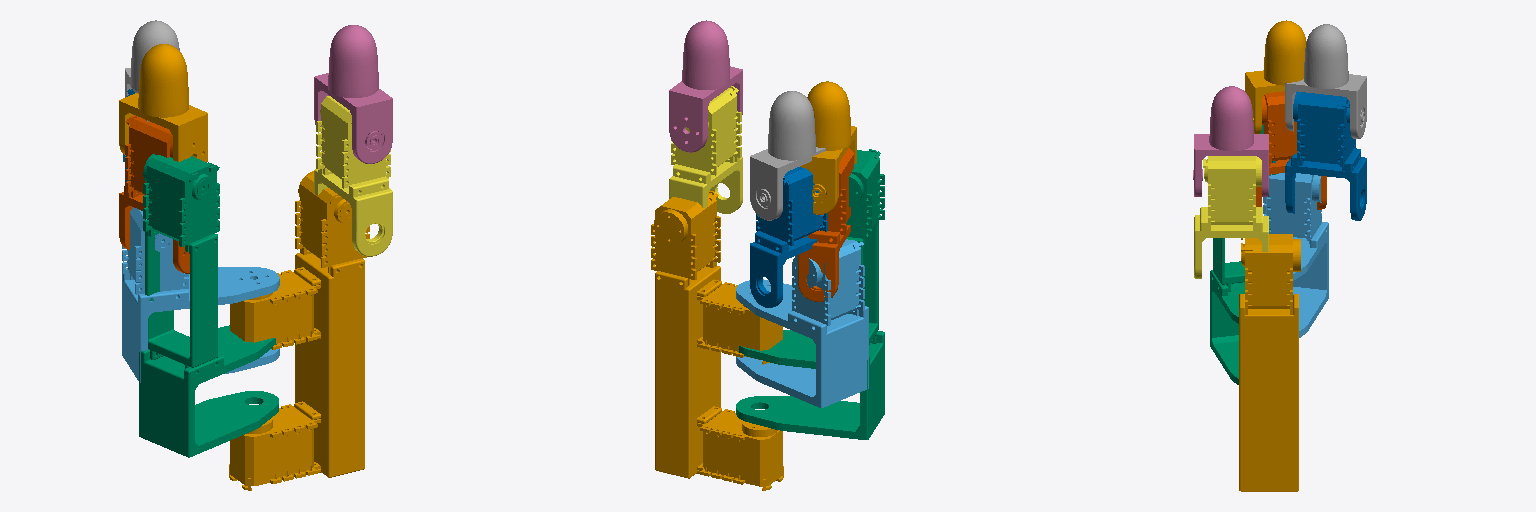
URDF robot description (p_hand):
<?xml version="1.0"?>
<robot name="p_hand">
  
  <!-- LINKS -->
  <link name="base_link">
    <visual>
      <geometry>
        <mesh filename="package://p_hand_description/meshes/base_link.STL"/>
      </geometry>
      <origin rpy="0 0 0" xyz="-0.0115 0 -0.127"/>
    </visual>
    <collision>
      <geometry>
        <mesh filename="package://p_hand_description/meshes/base_link.STL"/>
      </geometry>
      <origin rpy="0 0 0" xyz="-0.0115 0 -0.127"/>
    </collision>
    <inertial>
      <origin xyz="0.050416 0.000105 0.080742" rpy="0 0 0"/>
      <mass value="0.1"/>
      <!-- TODO -->
      <inertia ixx="0.4" ixy="0.0" ixz="0.0" iyy="0.4" iyz="0.0" izz="0.2"/>
    </inertial>
  </link>
  
  <link name="swivel1">
    <visual>
      <geometry>
        <mesh filename="package://p_hand_description/meshes/swivel1.STL"/>
      </geometry>
      <origin rpy="0 0 0" xyz="0 0 -0.045"/>
    </visual>
    <collision>
      <geometry>
        <mesh filename="package://p_hand_description/meshes/swivel1.STL"/>
      </geometry>
      <origin rpy="0 0 0" xyz="0 0 -0.045"/>
    </collision>
  </link>
  
  <link name="swivel2">
    <visual>
      <geometry>
        <mesh filename="package://p_hand_description/meshes/swivel2.STL"/>
      </geometry>
      <origin rpy="0 0 0" xyz="0 0 0"/>
    </visual>
    <collision>
      <geometry>
        <mesh filename="package://p_hand_description/meshes/swivel2.STL"/>
      </geometry>
      <origin rpy="0 0 0" xyz="0 0 0"/>
    </collision>
  </link>
  
  <link name="lower0">
    <visual>
      <geometry>
        <mesh filename="package://p_hand_description/meshes/lower.STL"/>
      </geometry>
      <origin rpy="0 0 0" xyz="0 0 0"/>
    </visual>
    <collision>
      <geometry>
        <mesh filename="package://p_hand_description/meshes/lower.STL"/>
      </geometry>
      <origin rpy="0 0 0" xyz="0 0 0"/>
    </collision>
  </link>
  
  <link name="lower1">
    <visual>
      <geometry>
        <mesh filename="package://p_hand_description/meshes/lower.STL"/>
      </geometry>
      <origin rpy="0 0 0" xyz="0 0 0"/>
    </visual>
    <collision>
      <geometry>
        <mesh filename="package://p_hand_description/meshes/lower.STL"/>
      </geometry>
      <origin rpy="0 0 0" xyz="0 0 0"/>
    </collision>
  </link>
  
  <link name="lower2">
    <visual>
      <geometry>
        <mesh filename="package://p_hand_description/meshes/lower.STL"/>
      </geometry>
      <origin rpy="0 0 0" xyz="0 0 0"/>
    </visual>
    <collision>
      <geometry>
        <mesh filename="package://p_hand_description/meshes/lower.STL"/>
      </geometry>
      <origin rpy="0 0 0" xyz="0 0 0"/>
    </collision>
  </link>
  
  <link name="upper0">
    <visual>
      <geometry>
        <mesh filename="package://p_hand_description/meshes/upper.STL"/>
      </geometry>
      <origin rpy="0 0 0" xyz="0 0 0"/>
    </visual>
    <collision>
      <geometry>
        <mesh filename="package://p_hand_description/meshes/upper.STL"/>
      </geometry>
      <origin rpy="0 0 0" xyz="0 0 0"/>
    </collision>
  </link>
  
  <link name="upper1">
    <visual>
      <geometry>
        <mesh filename="package://p_hand_description/meshes/upper.STL"/>
      </geometry>
      <origin rpy="0 0 0" xyz="0 0 0"/>
    </visual>
    <collision>
      <geometry>
        <mesh filename="package://p_hand_description/meshes/upper.STL"/>
      </geometry>
      <origin rpy="0 0 0" xyz="0 0 0"/>
    </collision>
  </link>
  
  <link name="upper2">
    <visual>
      <geometry>
        <mesh filename="package://p_hand_description/meshes/upper.STL"/>
      </geometry>
      <origin rpy="0 0 0" xyz="0 0 0"/>
    </visual>
    <collision>
      <geometry>
        <mesh filename="package://p_hand_description/meshes/upper.STL"/>
      </geometry>
      <origin rpy="0 0 0" xyz="0 0 0"/>
    </collision>
  </link>

<!-- JOINTS -->
<!-- Swivels -->
  <joint name="base_link_swivel1" type="revolute">
    <parent link="base_link"/>
    <child link="swivel1"/>
    <!-- lower=30 upper=300  -->
    <limit effort="1000.0" lower="0.523599" upper="5.23599" velocity="0.5"/>
    <origin xyz="0 0 0" rpy="0 0 0" />
    <axis xyz="0 0 1"/>
  </joint>
  
  <joint name="base_link_swivel2" type="revolute">
    <parent link="base_link"/>
    <child link="swivel2"/>
    <!-- lower=60 upper=330  -->
    <limit effort="1000.0" lower="1.0472" upper="5.75959" velocity="0.5"/>
    <origin xyz="0 0 -0.08" rpy="0 0 0" />
    <axis xyz="0 0 1"/>
  </joint>

<!-- Lowers -->
  <joint name="base_link_lower0" type="revolute">
    <parent link="base_link"/>
    <child link="lower0"/>
    <!-- lower=-90 upper=50  -->
    <limit effort="1000.0" lower="-1.5708" upper="0.872665" velocity="0.5"/>
    <origin xyz="0.053 0 0.042" rpy="1.5708  0 0" />
    <axis xyz="0 0 1" />
  </joint>

  <joint name="swivel1_lower1" type="revolute">
    <parent link="swivel1"/>
    <child link="lower1"/>
    <!-- lower=-90 upper=50  -->
    <limit effort="1000.0" lower="-1.5708" upper="0.872665" velocity="0.5"/>
    <origin xyz="0.053 0 0.042" rpy="1.5708  0 0" />
    <axis xyz="0 0 1" />
  </joint>

  <joint name="swivel2_lower2" type="revolute">
    <parent link="swivel2"/>
    <child link="lower2"/>
    <!-- lower=-90 upper=50  -->
    <limit effort="1000.0" lower="-1.5708" upper="0.872665" velocity="0.5"/>
    <origin xyz="0.05 0 0.12" rpy="1.5708  0 0" />
    <axis xyz="0 0 1" />
  </joint>

<!-- Uppers -->
  <joint name="lower0_upper0" type="revolute">
    <parent link="lower0"/>
    <child link="upper0"/>
    <!-- lower=-90 upper=100  -->
    <limit effort="1000.0" lower="-1.5708" upper="1.74533" velocity="0.5"/>
    <origin xyz="0 0.060 0" rpy="0  0 0" />
    <axis xyz="0 0 1" />
  </joint>
  
  <joint name="lower1_upper1" type="revolute">
    <parent link="lower1"/>
    <child link="upper1"/>
    <!-- lower=-90 upper=100  -->
    <limit effort="1000.0" lower="-1.5708" upper="1.74533" velocity="0.5"/>
    <origin xyz="0 0.060 0" rpy="0  0 0" />
    <axis xyz="0 0 1" />
  </joint>
  
  <joint name="lower2_upper2" type="revolute">
    <parent link="lower2"/>
    <child link="upper2"/>
    <!-- lower=-90 upper=100  -->
    <limit effort="1000.0" lower="-1.5708" upper="1.74533" velocity="0.5"/>
    <origin xyz="0 0.060 0" rpy="0  0 0" />
    <axis xyz="0 0 1" />
  </joint>
</robot>

--- Render facts (derived) ---
Views: 3 orthographic renders of the robot side by side, from view 1: azimuth 30°, elevation 25°; view 2: azimuth 150°, elevation 25°; view 3: azimuth 270°, elevation 25°.
Robot: p_hand — 9 links, 8 joints (8 revolute); root link base_link; default pose: all joints at 0 but 2 set to mid-range because 0 is outside their limits (base_link_swivel1 = 2.88, base_link_swivel2 = 3.4).
Visible links, largest first — view 1: base_link, swivel2, swivel1, lower0, upper0, upper2, lower2, upper1; view 2: base_link, swivel1, swivel2, upper0, lower0, lower1, upper1, upper2, lower2; view 3: base_link, lower1, swivel1, lower0, upper1, upper0, swivel2, upper2, lower2.
Boxes of the visible links, x1,y1,x2,y2 form: base_link: (229,170,369,490); swivel2: (139,154,278,457); swivel1: (122,207,279,382); lower0: (314,96,392,256); upper0: (314,25,392,163); upper2: (119,44,207,161); lower2: (119,115,189,273); upper1: (125,20,179,121); base_link: (651,191,783,490); swivel1: (736,239,868,407); swivel2: (736,149,884,439); upper0: (669,20,742,152); lower0: (669,86,742,213); lower1: (750,167,827,307); upper1: (750,91,825,220); upper2: (800,81,856,214); lower2: (798,148,853,301); base_link: (1239,234,1300,491); lower1: (1285,91,1366,220); swivel1: (1263,173,1328,337); lower0: (1194,156,1268,278); upper1: (1285,24,1366,138); upper0: (1193,86,1268,196); swivel2: (1210,125,1275,384); upper2: (1245,20,1306,133); lower2: (1256,91,1326,209).
Size in the robot's own frame: 0.1468 by 0.1159 by 0.2922 metres.
Meshes: 5 distinct files referenced, 9 mesh visuals loaded (5 binary STL).